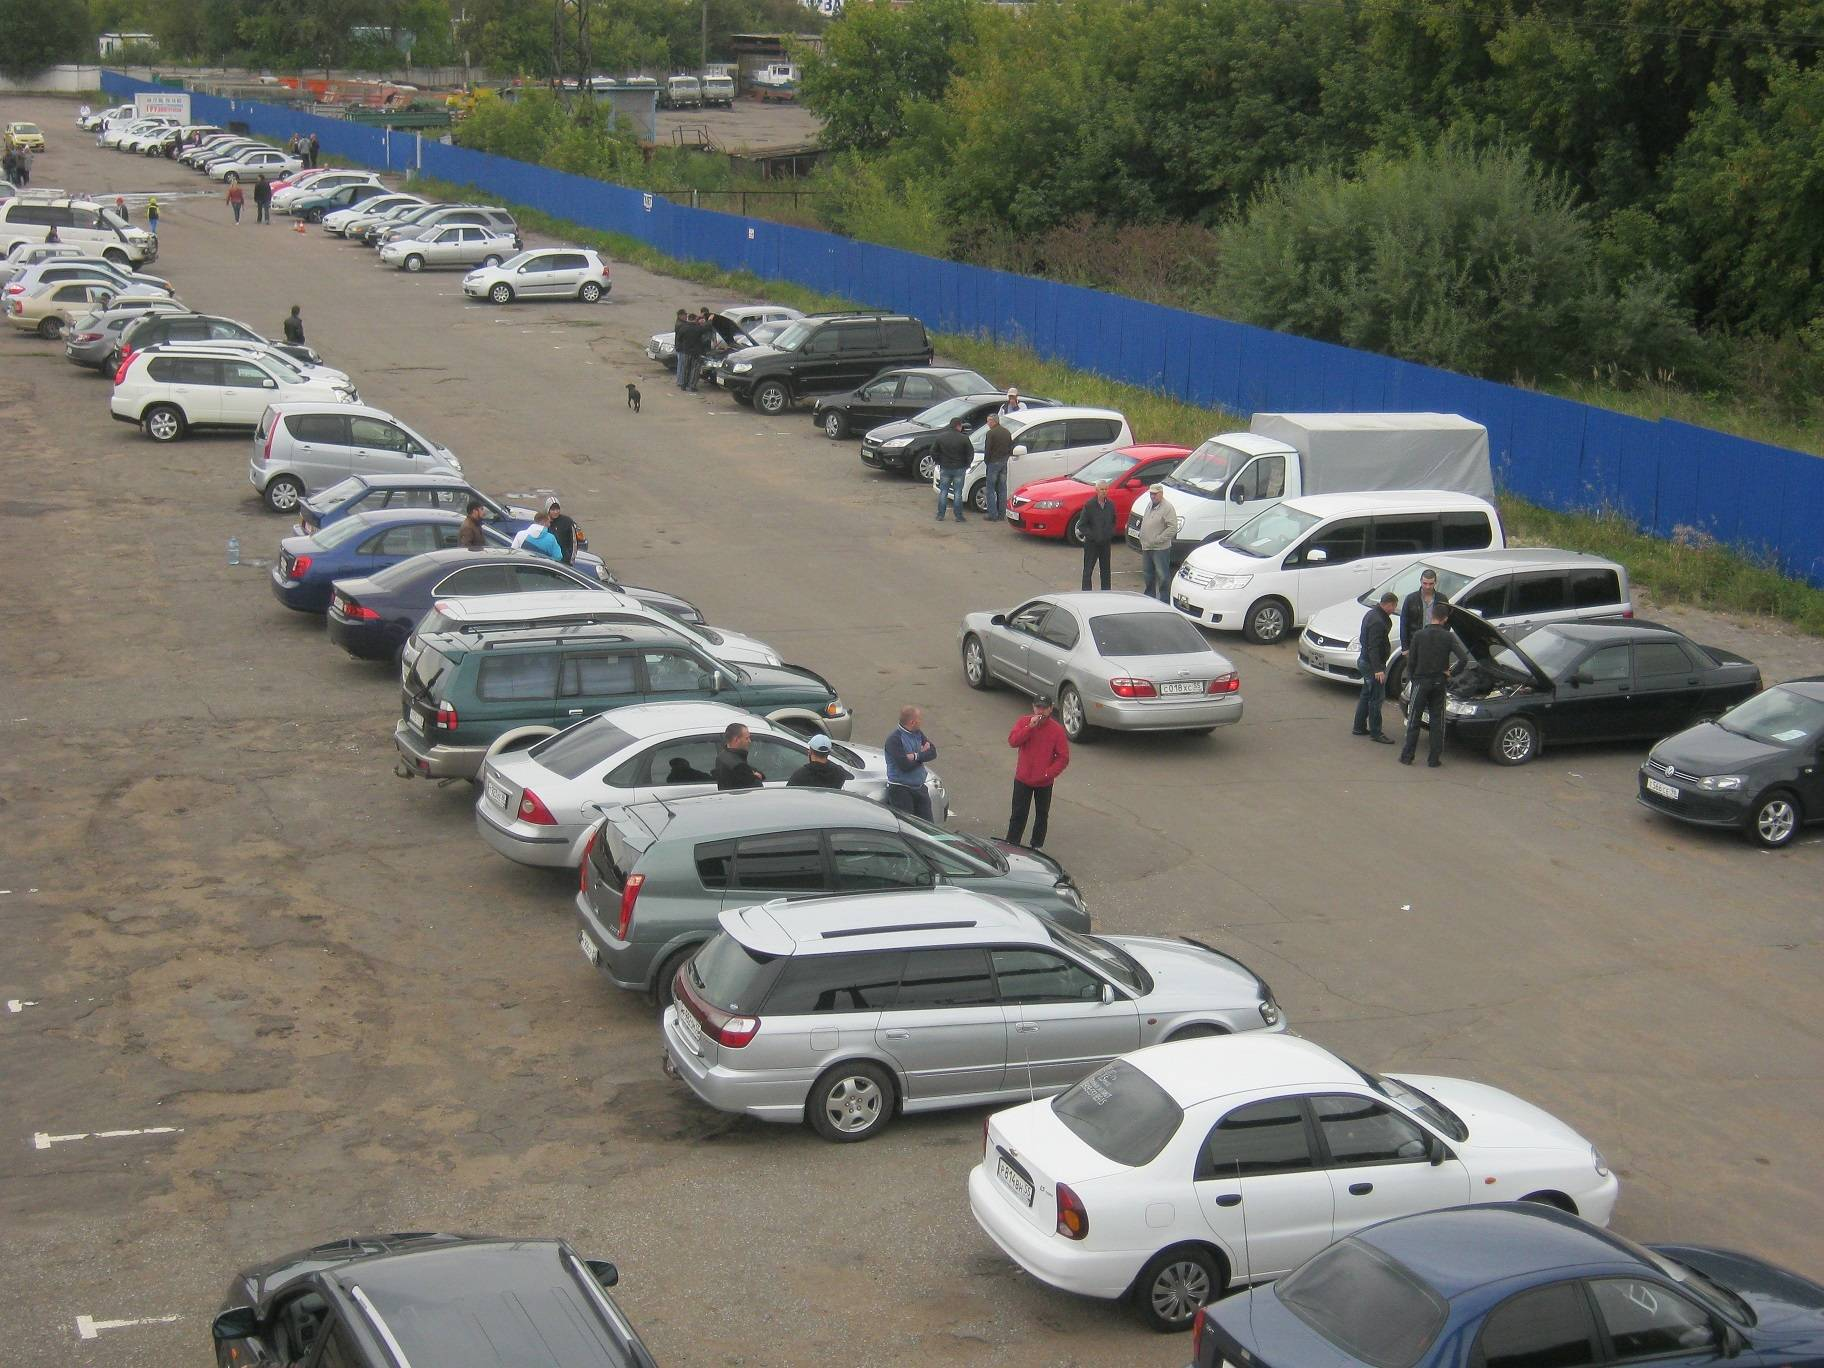Car: (968, 1035, 1619, 1331), (661, 889, 1287, 1142), (574, 785, 1093, 1002), (1191, 1204, 1824, 1368), (475, 701, 951, 874), (395, 619, 852, 782), (1125, 412, 1495, 578), (211, 1231, 655, 1368), (1397, 601, 1764, 766), (1169, 487, 1504, 644), (1297, 546, 1634, 698), (959, 586, 1242, 741), (327, 546, 707, 661), (399, 589, 783, 683), (270, 509, 616, 612), (1634, 675, 1824, 849), (109, 341, 365, 443), (250, 402, 465, 514), (292, 471, 587, 552), (715, 309, 934, 414), (932, 407, 1136, 513), (1004, 444, 1195, 546), (860, 392, 1063, 481), (810, 366, 1004, 440), (109, 310, 323, 376), (0, 187, 158, 273), (646, 305, 807, 369), (0, 263, 172, 313), (461, 249, 612, 306), (65, 308, 175, 378), (375, 207, 523, 257), (7, 279, 126, 341), (379, 223, 518, 273), (0, 243, 132, 295), (699, 316, 800, 382), (59, 295, 194, 342), (201, 339, 349, 381), (40, 256, 175, 297), (365, 204, 490, 247), (270, 170, 385, 216), (322, 194, 429, 239), (292, 184, 396, 224), (345, 204, 435, 243), (103, 93, 191, 129), (208, 151, 303, 184), (136, 125, 217, 155), (197, 142, 273, 172), (204, 147, 283, 175), (178, 137, 253, 165), (190, 141, 264, 168), (159, 128, 224, 158), (269, 168, 343, 194), (172, 134, 238, 161), (119, 126, 180, 154), (103, 122, 164, 149), (661, 76, 701, 111), (3, 121, 46, 151), (701, 75, 734, 109), (625, 78, 659, 106), (82, 109, 118, 132), (0, 180, 20, 210), (126, 116, 169, 128), (586, 76, 618, 88), (116, 122, 149, 132), (76, 116, 95, 128)
